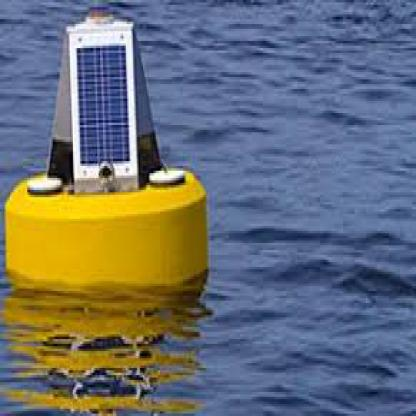buoy: (0, 0, 220, 320)
